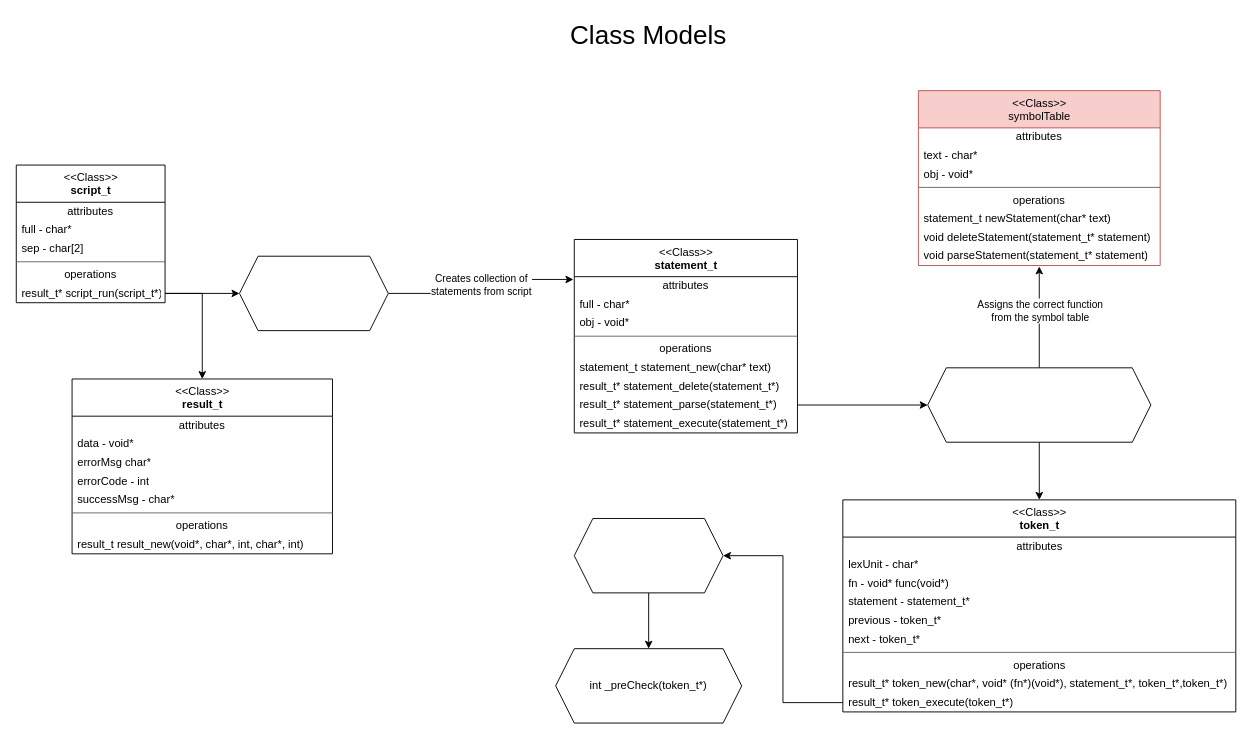
Some shapes in this 1253 by 739 pixel diagram are drawn without their labels. The centre of each missing label's shape, as x and y in pixels:
void execute(token_t*): the point at 648,555
void parse(char*): the point at 313,293
void parseStatement(statement_t*): the point at 1039,404
